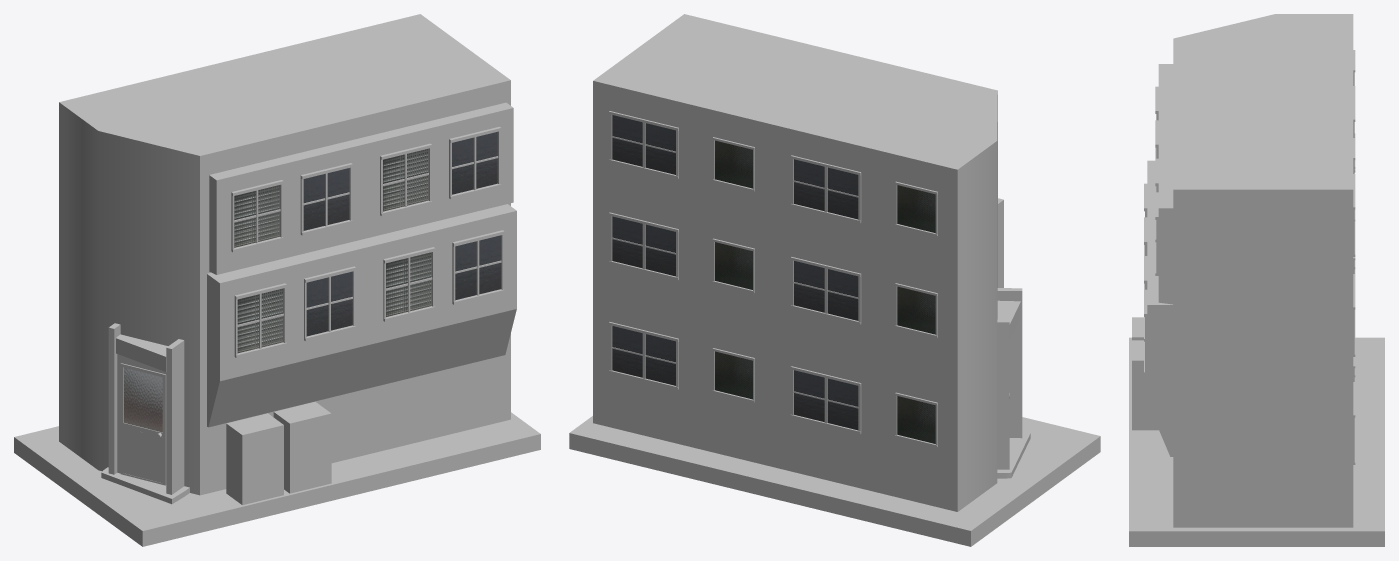
The model's file is apart_high_3a.fbx.
3 renders of one model, left to right at view 1: azimuth 30°, elevation 25°; view 2: azimuth 150°, elevation 25°; view 3: azimuth 270°, elevation 25°, orthographic.
Parts seen in each view (by area): view 1: apart_high_3a; view 2: apart_high_3a; view 3: apart_high_3a.
Part boxes in pixels (bbox=[...]): apart_high_3a: bbox=[14, 14, 540, 546]; apart_high_3a: bbox=[569, 14, 1100, 546]; apart_high_3a: bbox=[1129, 14, 1384, 546].
Bounding box in the file's own units: 7.92 × 6.76 × 4.43.
